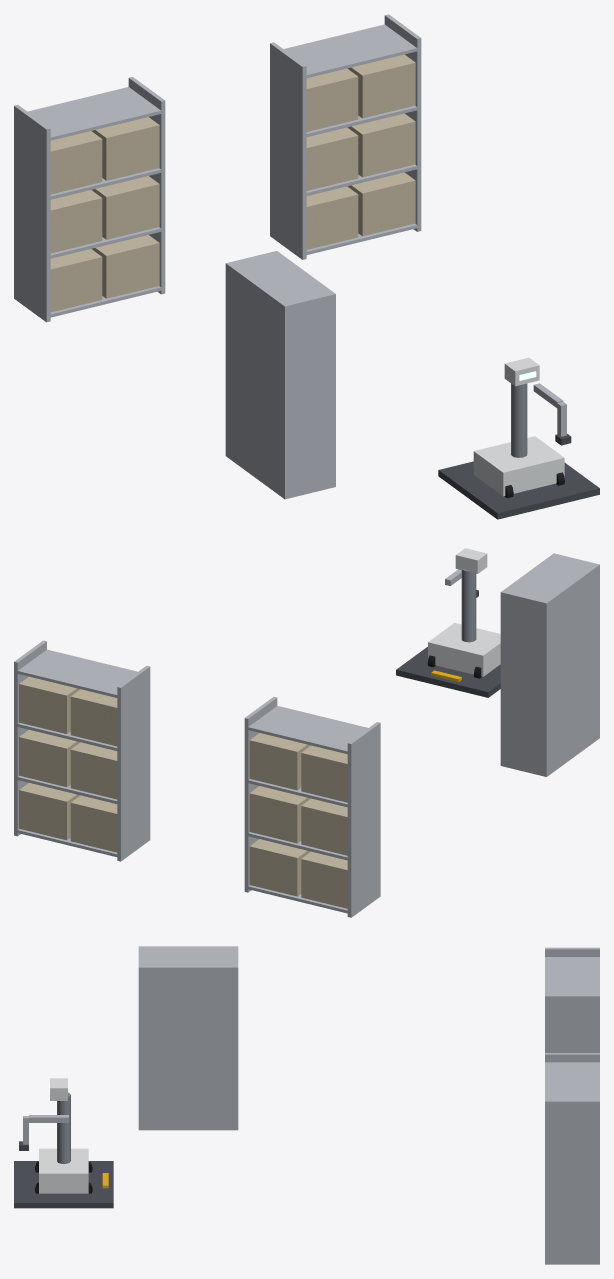
File: robot_bay_and_stores.glb
3 views of the same model, one above another, from view 1: azimuth 30°, elevation 25°; view 2: azimuth 150°, elevation 25°; view 3: azimuth 270°, elevation 25° (orthographic). The views are drawn at different scales.
Parts seen in each view (by area): view 1: robot_white_plastic, fabric; view 2: robot_white_plastic, fabric; view 3: robot_white_plastic.
Part boxes in pixels (box(x1,y1,x2,y2)): robot_white_plastic: box(14, 14, 599, 519); fabric: box(50, 54, 415, 312); robot_white_plastic: box(14, 548, 599, 917); fabric: box(19, 676, 347, 908); robot_white_plastic: box(14, 946, 599, 1264).
Size of the model in its own units: 3.69 by 1.8 by 5.88.
Materials: 3 (3 with a texture image).
